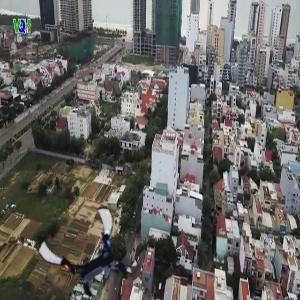drone: (45, 213, 132, 300)
